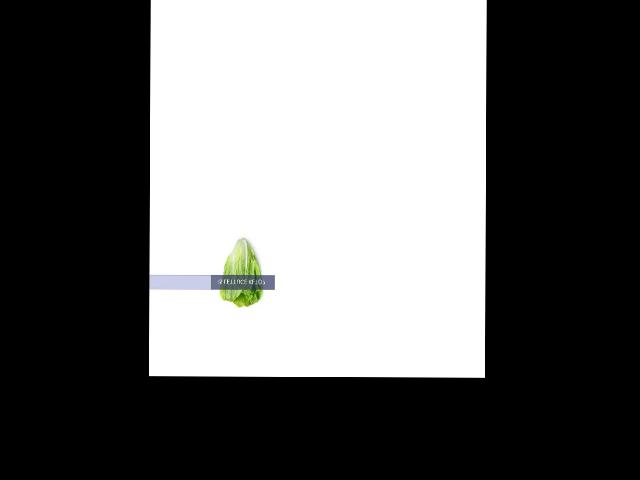lettuce: (218, 231, 266, 307)
